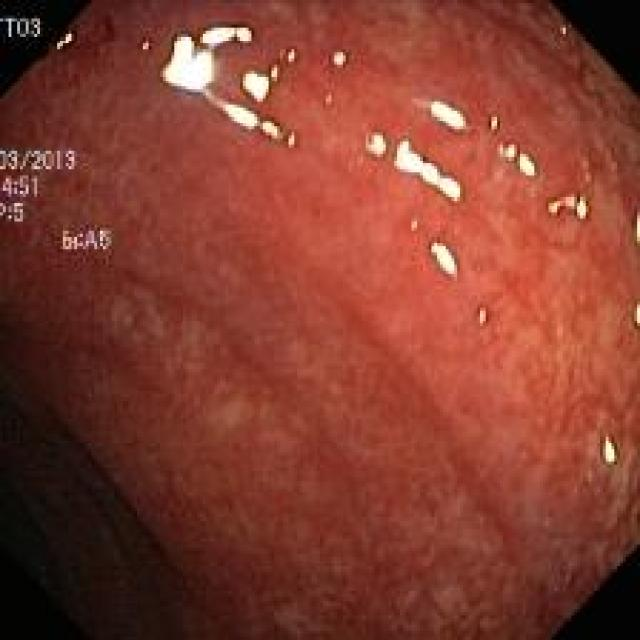ulcerative-colitis-grade-1: (2, 3, 640, 637)
